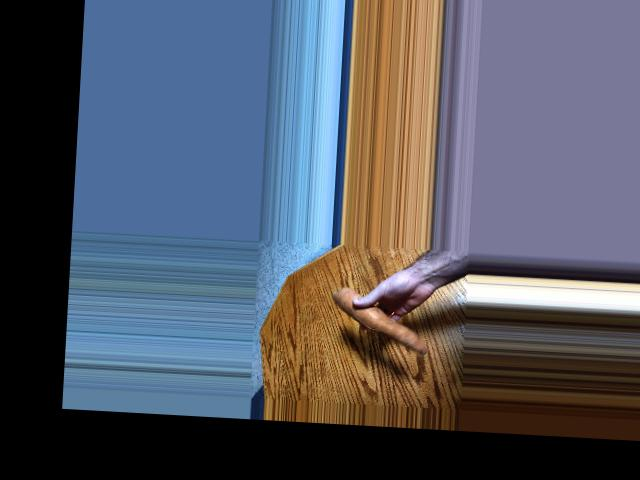sweet_potato: (319, 289, 429, 347)
